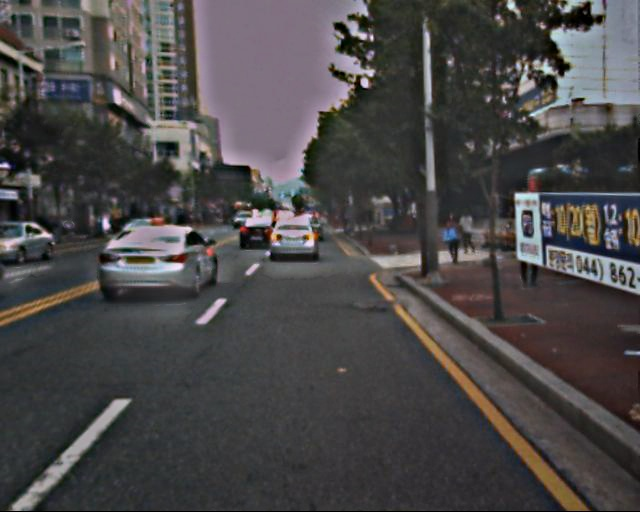person: (514, 218, 544, 290), (442, 213, 463, 263), (457, 206, 477, 255)
